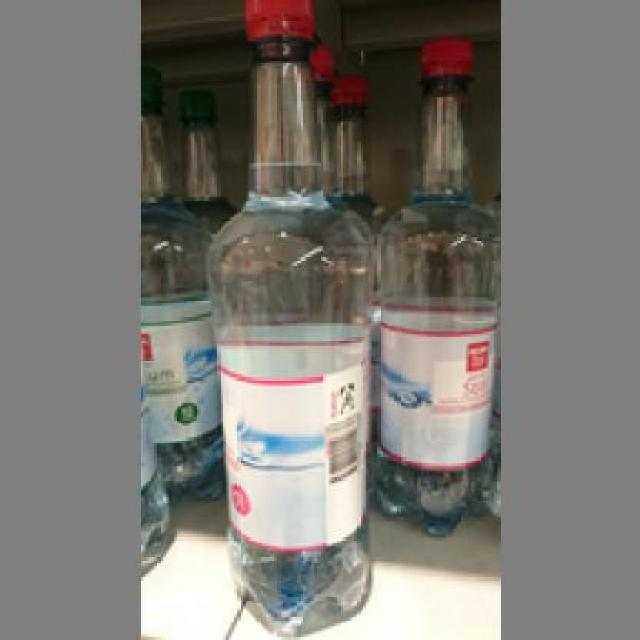Water: (206, 0, 372, 629), (368, 31, 492, 538)
